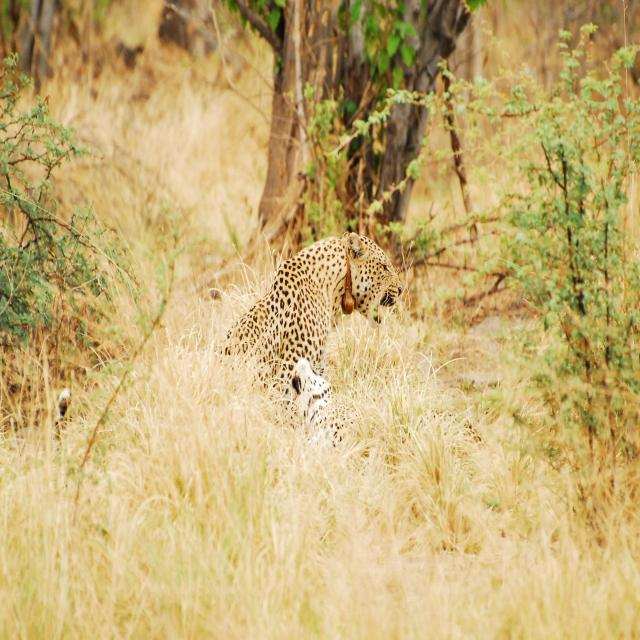Leopard: (214, 212, 406, 452)
